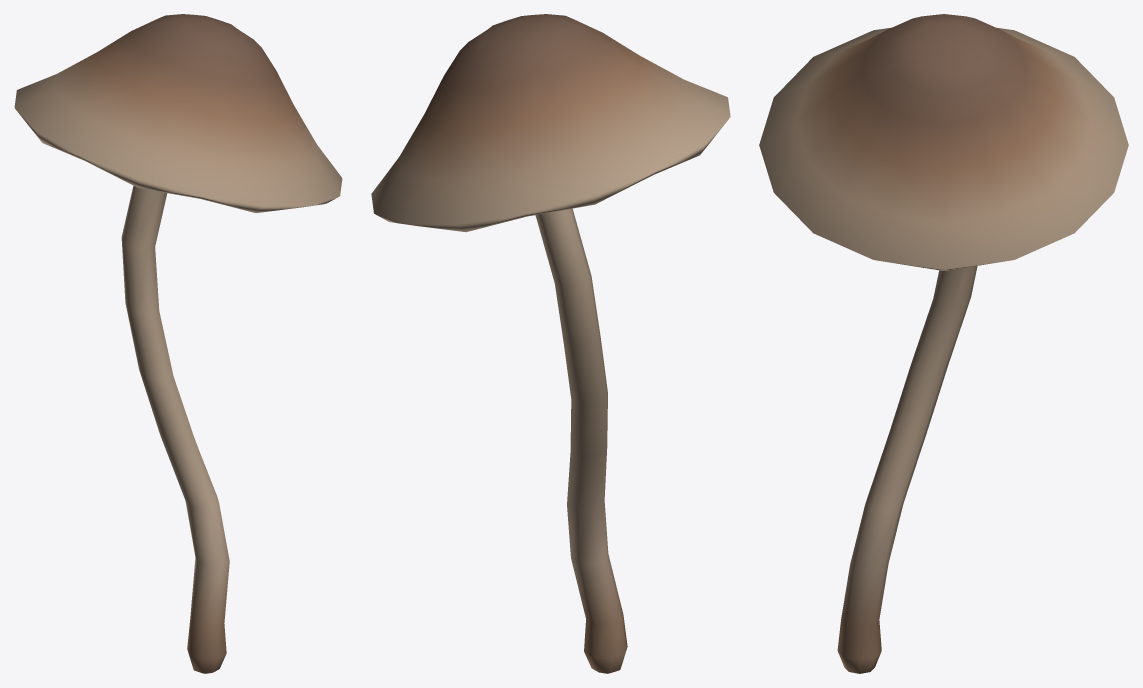
The model's file is plants-mushrooms-bell-cap-mushroom_v2.glb.
3 views of the same model, side by side, from view 1: azimuth 30°, elevation 25°; view 2: azimuth 150°, elevation 25°; view 3: azimuth 270°, elevation 25° (orthographic). The views are drawn at different scales.
Visible parts, largest first — view 1: Bell Cap Mushroom_v2; view 2: Bell Cap Mushroom_v2; view 3: Bell Cap Mushroom_v2.
Part boxes in pixels (x1=…): Bell Cap Mushroom_v2: x1=14, y1=14, x2=342, y2=673; Bell Cap Mushroom_v2: x1=371, y1=14, x2=730, y2=673; Bell Cap Mushroom_v2: x1=759, y1=14, x2=1128, y2=673.
Size of the model in its own units: 0.058 by 0.12 by 0.0608.
